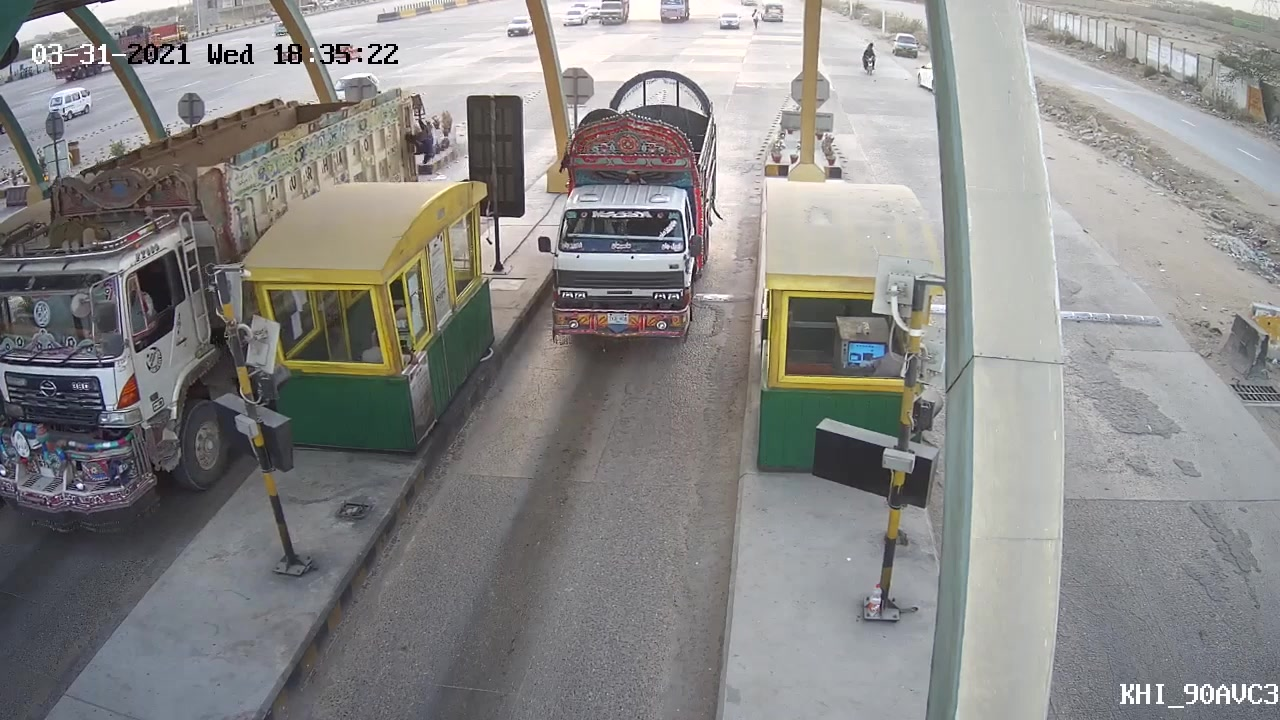F5: (539, 71, 714, 352)
